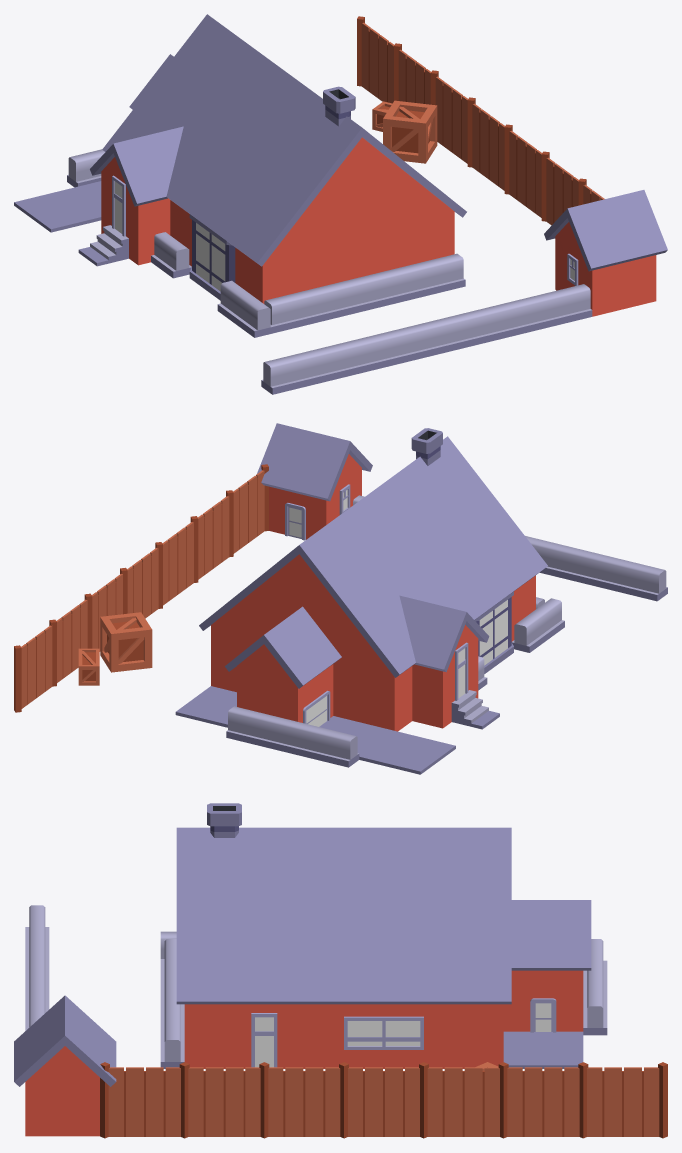
The model's file is House_002.fbx.
3 renders of one model, top to bottom at view 1: azimuth 30°, elevation 25°; view 2: azimuth 150°, elevation 25°; view 3: azimuth 270°, elevation 25°, orthographic. The views are drawn at different scales.
Visible parts, largest first — view 1: mergedBlocks; view 2: mergedBlocks; view 3: mergedBlocks.
Boxes of the visible parts, bbox=[...] form: mergedBlocks: bbox=[14, 14, 667, 394]; mergedBlocks: bbox=[14, 423, 667, 774]; mergedBlocks: bbox=[14, 803, 667, 1138].
Size of the model in its own units: 305 by 145 by 410.
